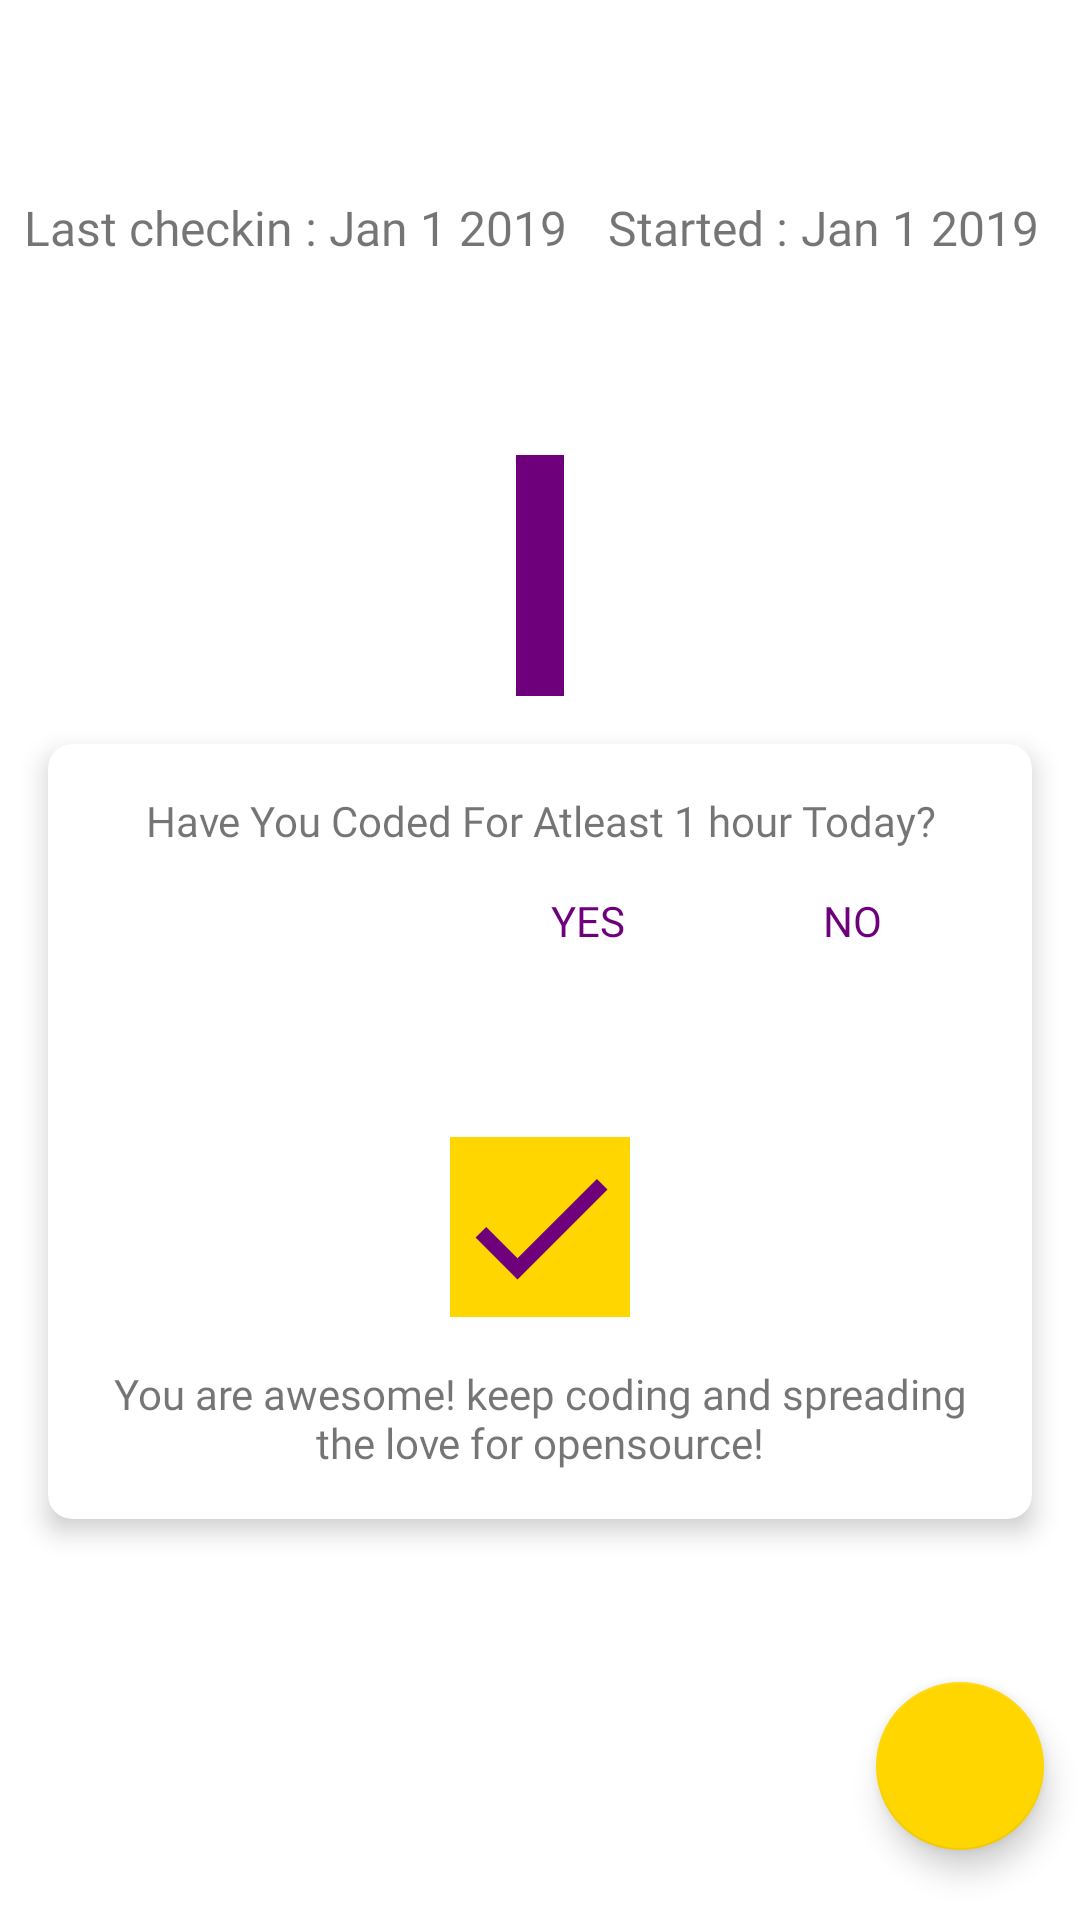

Screen size 1080px×1920px. Icon name, then its box in pixels as (x1, y1, x2, y2):
check: (450, 1137, 630, 1317)
